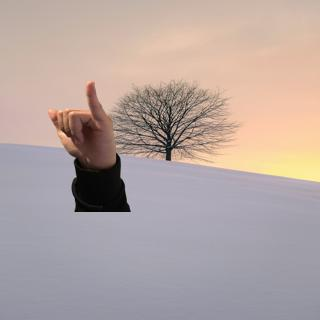HAVE: (41, 78, 121, 171)
